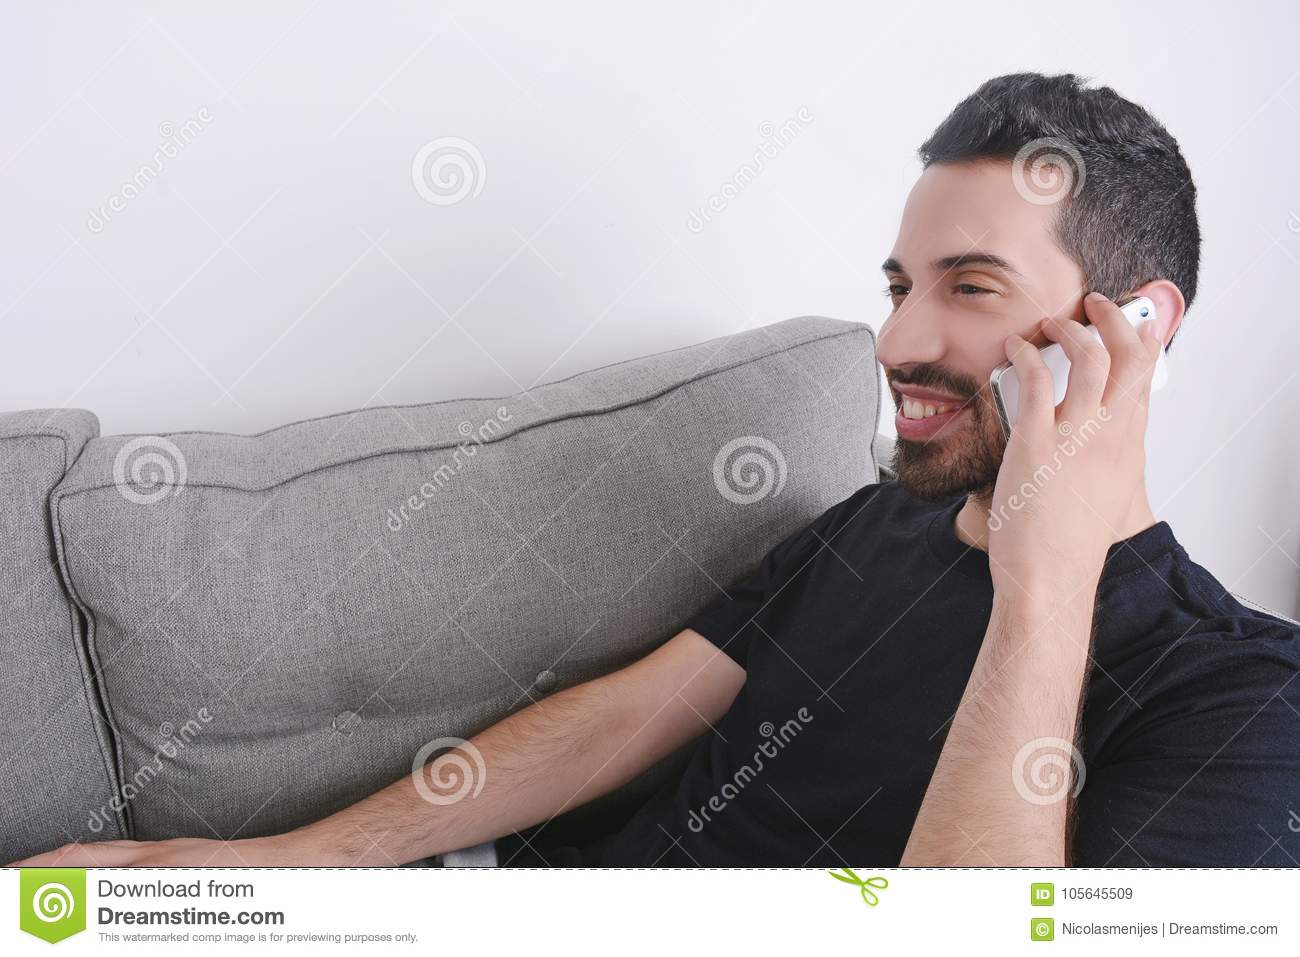phone: (986, 295, 1173, 443)
talk: (873, 240, 1169, 611)
